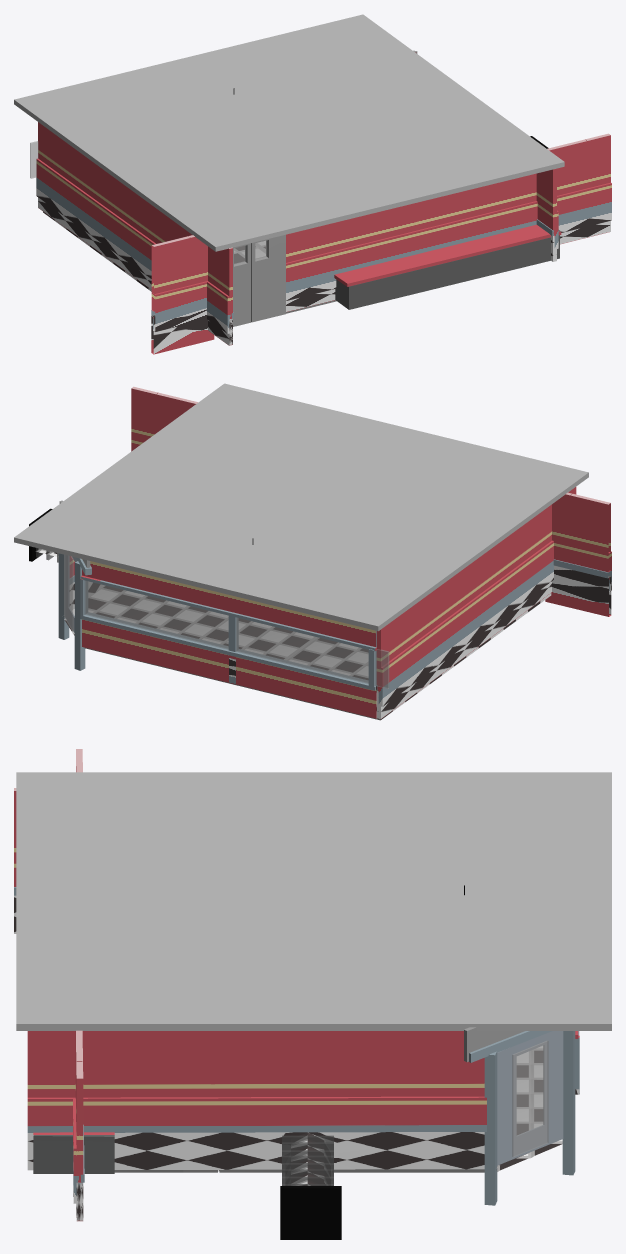
The model's file is Day 3.fbx.
The picture shows the model from 3 angles, top to bottom: view 1: azimuth 30°, elevation 25°; view 2: azimuth 150°, elevation 25°; view 3: azimuth 270°, elevation 25°; orthographic projection. The views are drawn at different scales.
Parts seen in each view (by area): view 1: pPlane6, pCube66, pCube24, pCube29, pCube67, pCube32, pCube91, pCube72, pPlane5; view 2: pPlane6, pCube16, pCube24, pPlane5, pCube67, pCube70, pCube69, pCube66, pCube17, pCube71, pCube18, pCube27 (+1 smaller); view 3: pPlane6, pCube91, pCube27, pCube71, pPlane5, pCube100, pCube29, pCube18, pCube66, pCube17, pCube26, pCube25.
Boxes of the visible parts, bbox=[...] form: pPlane6: bbox=[14, 14, 564, 251]; pCube66: bbox=[286, 133, 611, 311]; pCube24: bbox=[36, 122, 233, 345]; pCube29: bbox=[334, 224, 561, 309]; pCube67: bbox=[151, 235, 214, 354]; pCube32: bbox=[251, 234, 285, 322]; pCube91: bbox=[536, 168, 558, 261]; pCube72: bbox=[233, 243, 250, 326]; pPlane5: bbox=[43, 211, 336, 313]; pPlane6: bbox=[14, 383, 588, 631]; pCube16: bbox=[80, 559, 376, 718]; pCube24: bbox=[376, 487, 576, 719]; pPlane5: bbox=[64, 585, 551, 720]; pCube67: bbox=[545, 492, 611, 616]; pCube70: bbox=[236, 617, 389, 688]; pCube69: bbox=[85, 581, 228, 649]; pCube66: bbox=[131, 386, 197, 451]; pCube17: bbox=[74, 561, 85, 670]; pCube71: bbox=[64, 555, 73, 631]; pCube18: bbox=[58, 553, 69, 639]; pCube27: bbox=[64, 554, 77, 632]; pPlane6: bbox=[16, 772, 611, 1030]; pCube91: bbox=[27, 1031, 486, 1185]; pCube27: bbox=[497, 1031, 563, 1165]; pCube71: bbox=[512, 1040, 548, 1157]; pPlane5: bbox=[114, 1046, 562, 1172]; pCube100: bbox=[280, 1186, 341, 1239]; pCube29: bbox=[33, 1132, 114, 1173]; pCube18: bbox=[484, 1051, 497, 1205]; pCube66: bbox=[73, 1030, 84, 1221]; pCube17: bbox=[562, 1031, 575, 1175]; pCube26: bbox=[464, 1027, 524, 1062]; pCube25: bbox=[469, 1031, 552, 1062].
Size of the model in its own units: 59.25 by 15.82 by 44.37.
